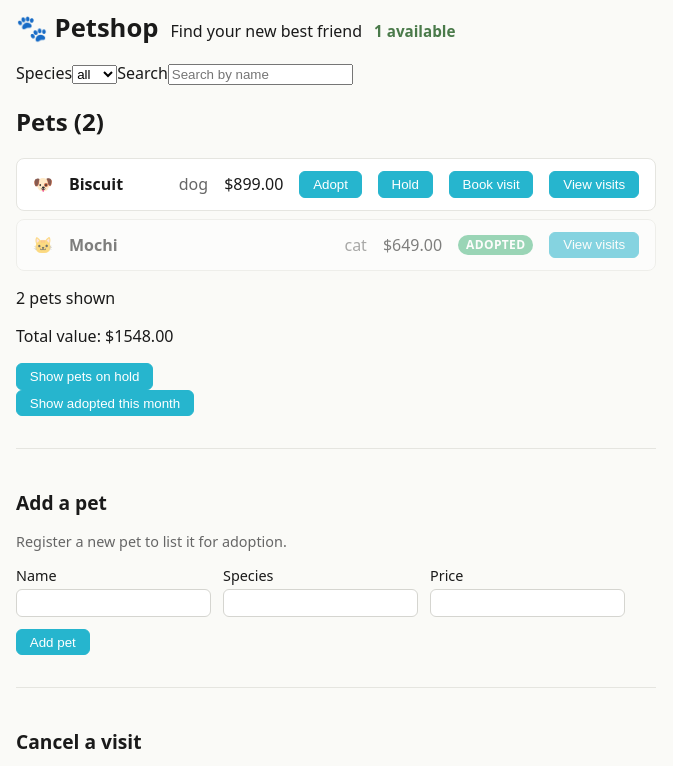
it: App › refetches visits each time the list is reopened so new bookings appear
This screenshot has width=673, height=766.
Expected: the text "Biscuit" is shown, [69, 173, 123, 195]
First open: only Ada.
Click the button "View visits" in the row of "Biscuit".
click(594, 184)  # box [549, 171, 639, 198]
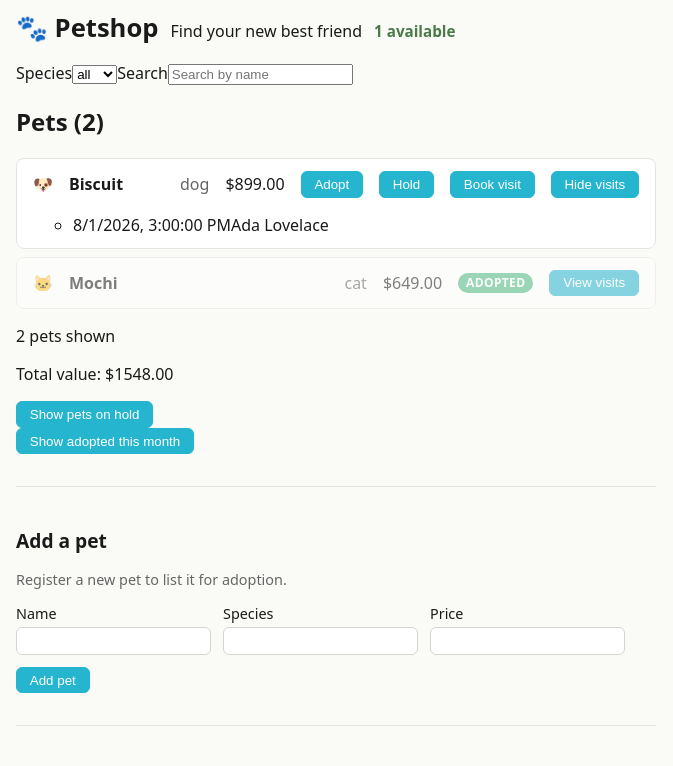
Expected: the text "Grace Hopper" is not shown
Expected: the text "Ada Lovelace" is shown, [231, 214, 329, 236]
Close, then reopen: the newly booked visit is now fetched and shown.
Click the button "Hide visits".
click(595, 184)  # box [551, 171, 639, 198]
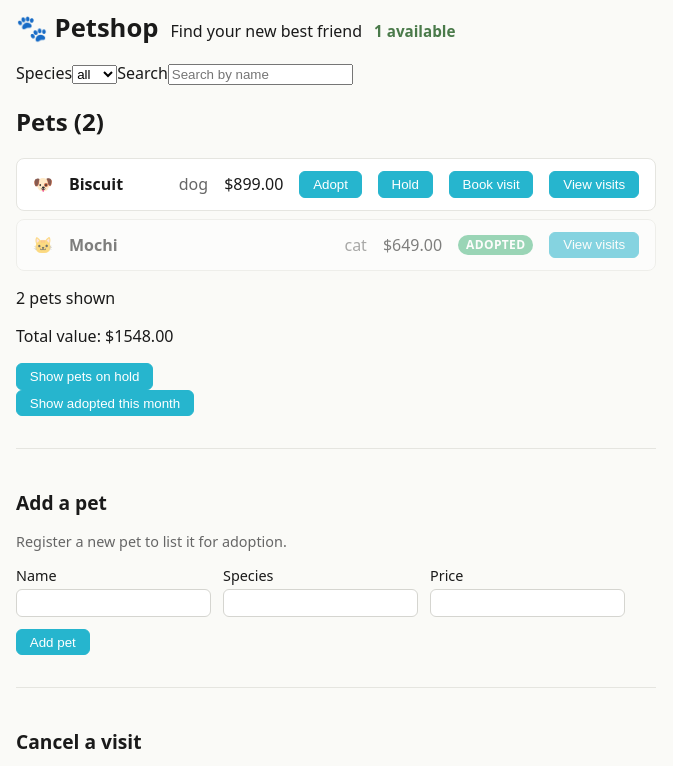
Click the button "View visits" in the row of "Biscuit".
click(594, 184)  # box [549, 171, 639, 198]
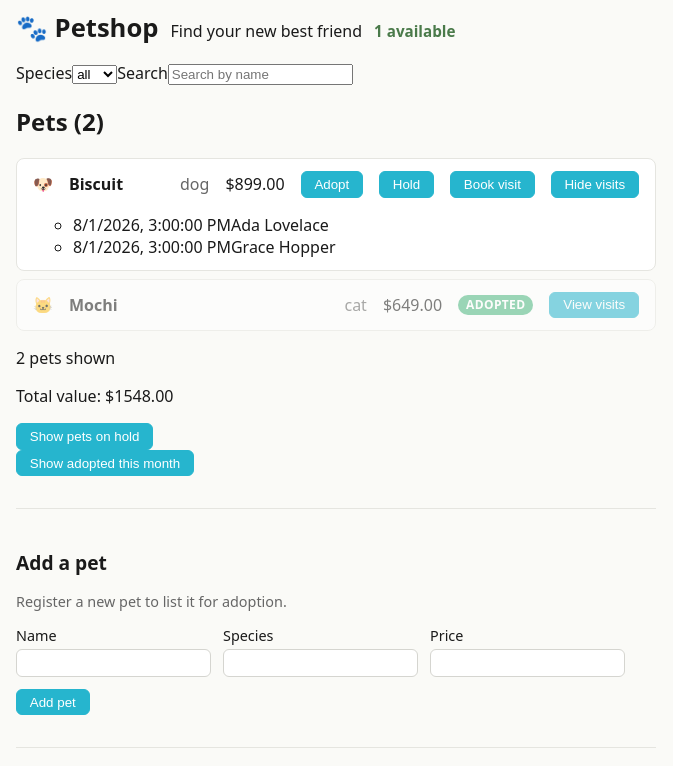
Expected: the text "Grace Hopper" is shown, [231, 236, 336, 258]
